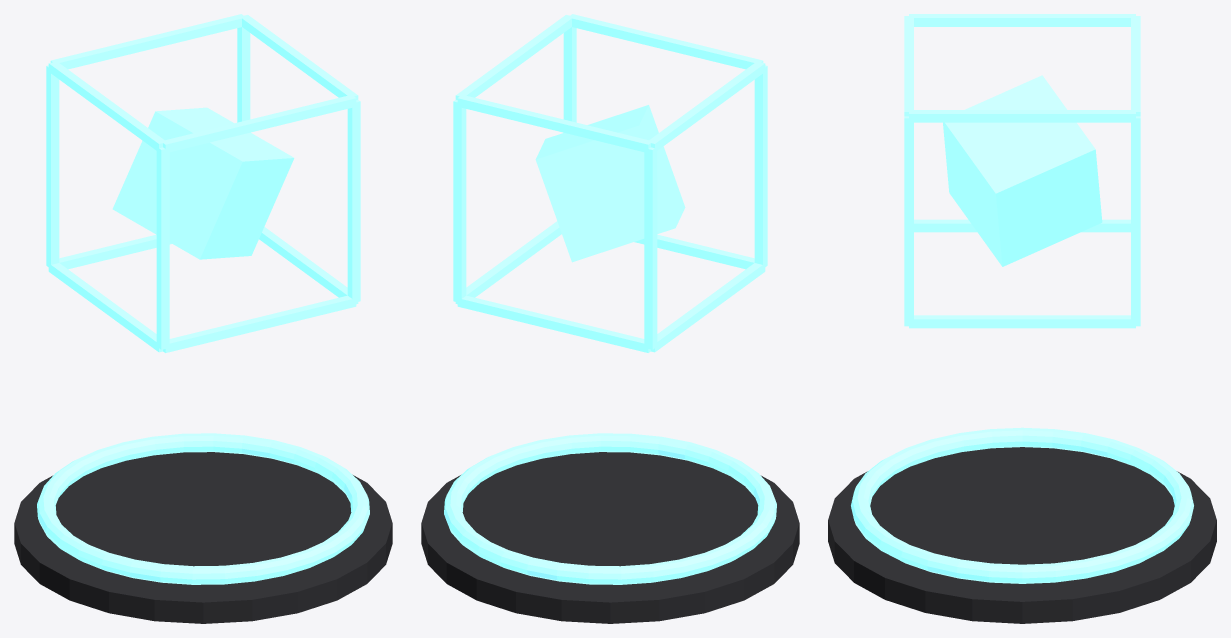
File: holo-cube.glb
The picture shows the model from 3 angles, left to right: view 1: azimuth 30°, elevation 25°; view 2: azimuth 150°, elevation 25°; view 3: azimuth 270°, elevation 25°; orthographic projection. The views are drawn at different scales.
Visible parts, largest first — view 1: SP_06_holo_cube_base, SP_06_holo_cube_core, SP_06_holo_cube_ring, SP_06_holo_cube_edge.008, SP_06_holo_cube_edge.010, SP_06_holo_cube_edge.009, SP_06_holo_cube_edge.001, SP_06_holo_cube_edge, SP_06_holo_cube_edge.003, SP_06_holo_cube_edge.005, SP_06_holo_cube_edge.004, SP_06_holo_cube_edge.007 (+3 smaller); view 2: SP_06_holo_cube_base, SP_06_holo_cube_ring, SP_06_holo_cube_core, SP_06_holo_cube_edge.009, SP_06_holo_cube_edge.011, SP_06_holo_cube_edge.008, SP_06_holo_cube_edge.003, SP_06_holo_cube_edge.002, SP_06_holo_cube_edge.001, SP_06_holo_cube_edge.005, SP_06_holo_cube_edge.007, SP_06_holo_cube_edge.004 (+3 smaller); view 3: SP_06_holo_cube_base, SP_06_holo_cube_core, SP_06_holo_cube_ring, SP_06_holo_cube_edge.006, SP_06_holo_cube_edge.007, SP_06_holo_cube_edge.005, SP_06_holo_cube_edge.011, SP_06_holo_cube_edge.010, SP_06_holo_cube_edge.004, SP_06_holo_cube_edge.001, SP_06_holo_cube_edge.003.
Part boxes in pixels (x1,y1,x2,y2): SP_06_holo_cube_base: [14, 452, 392, 623]; SP_06_holo_cube_core: [112, 107, 294, 259]; SP_06_holo_cube_ring: [37, 433, 369, 584]; SP_06_holo_cube_edge.008: [156, 147, 169, 349]; SP_06_holo_cube_edge.010: [347, 100, 360, 303]; SP_06_holo_cube_edge.009: [46, 65, 59, 267]; SP_06_holo_cube_edge.001: [161, 94, 356, 152]; SP_06_holo_cube_edge: [163, 295, 356, 352]; SP_06_holo_cube_edge.003: [50, 14, 245, 69]; SP_06_holo_cube_edge.005: [48, 62, 165, 152]; SP_06_holo_cube_edge.004: [48, 263, 162, 352]; SP_06_holo_cube_edge.007: [240, 15, 358, 99]; SP_06_holo_cube_base: [421, 452, 799, 623]; SP_06_holo_cube_ring: [444, 433, 776, 584]; SP_06_holo_cube_core: [535, 105, 685, 262]; SP_06_holo_cube_edge.009: [644, 147, 657, 349]; SP_06_holo_cube_edge.011: [453, 100, 466, 302]; SP_06_holo_cube_edge.008: [754, 65, 767, 268]; SP_06_holo_cube_edge.003: [457, 95, 652, 152]; SP_06_holo_cube_edge.002: [457, 295, 650, 352]; SP_06_holo_cube_edge.001: [568, 14, 763, 69]; SP_06_holo_cube_edge.005: [647, 62, 765, 152]; SP_06_holo_cube_edge.007: [455, 15, 572, 99]; SP_06_holo_cube_edge.004: [651, 263, 765, 352]; SP_06_holo_cube_base: [828, 447, 1216, 623]; SP_06_holo_cube_core: [943, 75, 1102, 266]; SP_06_holo_cube_ring: [851, 427, 1193, 583]; SP_06_holo_cube_edge.006: [909, 315, 1135, 328]; SP_06_holo_cube_edge.007: [909, 110, 1135, 122]; SP_06_holo_cube_edge.005: [909, 14, 1135, 26]; SP_06_holo_cube_edge.011: [1131, 116, 1140, 323]; SP_06_holo_cube_edge.010: [904, 116, 913, 323]; SP_06_holo_cube_edge.004: [914, 219, 1130, 232]; SP_06_holo_cube_edge.001: [904, 16, 913, 116]; SP_06_holo_cube_edge.003: [1131, 16, 1140, 116].
Bounding box in the file's own units: 0.24 × 0.3255 × 0.24.
